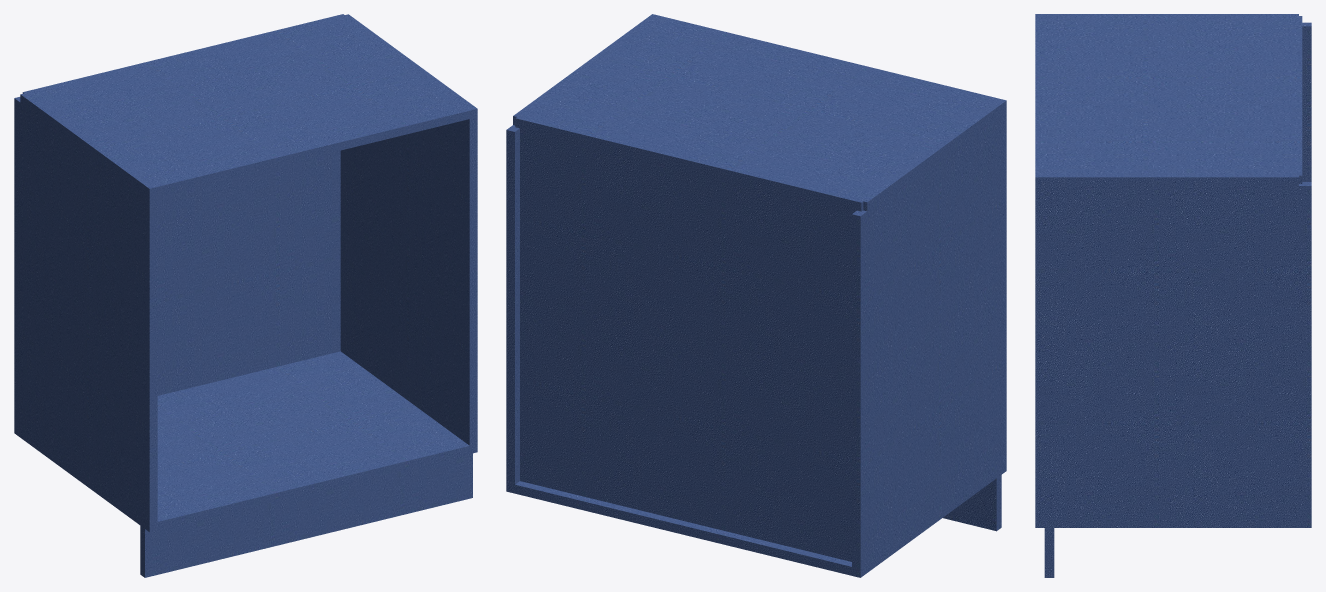
3 views of the same model, side by side, from view 1: azimuth 30°, elevation 25°; view 2: azimuth 150°, elevation 25°; view 3: azimuth 270°, elevation 25° (orthographic). The views are drawn at different scales.
Parts seen in each view (by area): view 1: 3DGeom-2, 3DGeom-1, 3DGeom-6, 3DGeom-3, 3DGeom-4, 3DGeom-5; view 2: 3DGeom-6, 3DGeom-2, 3DGeom-1, 3DGeom-4, 3DGeom-3, 3DGeom-5; view 3: 3DGeom-3, 3DGeom-1, 3DGeom-4, 3DGeom-2, 3DGeom-6, 3DGeom-5.
Part boxes in pixels (left/top/right/bottom): 3DGeom-2: left=14, top=97, right=157, bottom=523; 3DGeom-1: left=20, top=14, right=477, bottom=196; 3DGeom-6: left=22, top=14, right=344, bottom=395; 3DGeom-3: left=340, top=117, right=477, bottom=445; 3DGeom-4: left=14, top=351, right=477, bottom=532; 3DGeom-5: left=140, top=453, right=472, bottom=577; 3DGeom-6: left=515, top=117, right=863, bottom=561; 3DGeom-2: left=852, top=109, right=1006, bottom=568; 3DGeom-1: left=513, top=14, right=1006, bottom=211; 3DGeom-4: left=506, top=462, right=1006, bottom=577; 3DGeom-3: left=506, top=125, right=519, bottom=484; 3DGeom-5: left=943, top=475, right=1001, bottom=531; 3DGeom-3: left=1035, top=182, right=1311, bottom=519; 3DGeom-1: left=1035, top=14, right=1298, bottom=185; 3DGeom-4: left=1035, top=519, right=1311, bottom=527; 3DGeom-2: left=1302, top=22, right=1311, bottom=181; 3DGeom-6: left=1299, top=16, right=1302, bottom=183; 3DGeom-5: left=1044, top=528, right=1054, bottom=577.
Size of the model in its own units: 0.7 by 0.8 by 0.5.
1 material, 1 textured.
